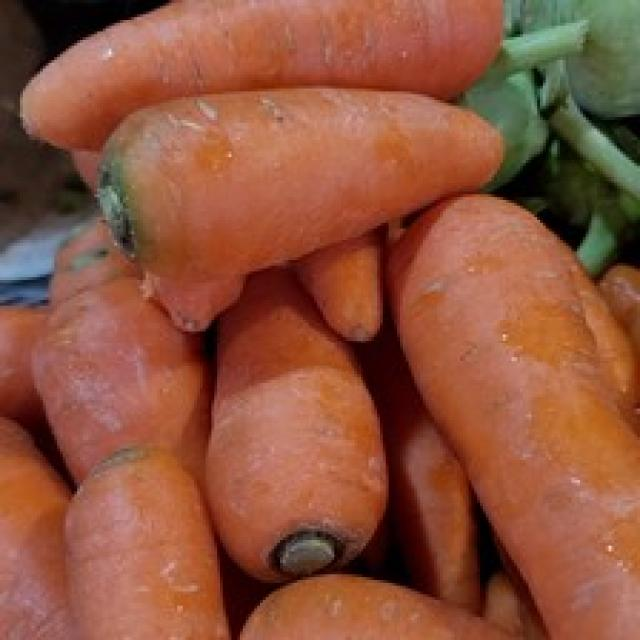Fresh_Carrot: (413, 191, 640, 640), (105, 94, 498, 252), (198, 253, 382, 572)
